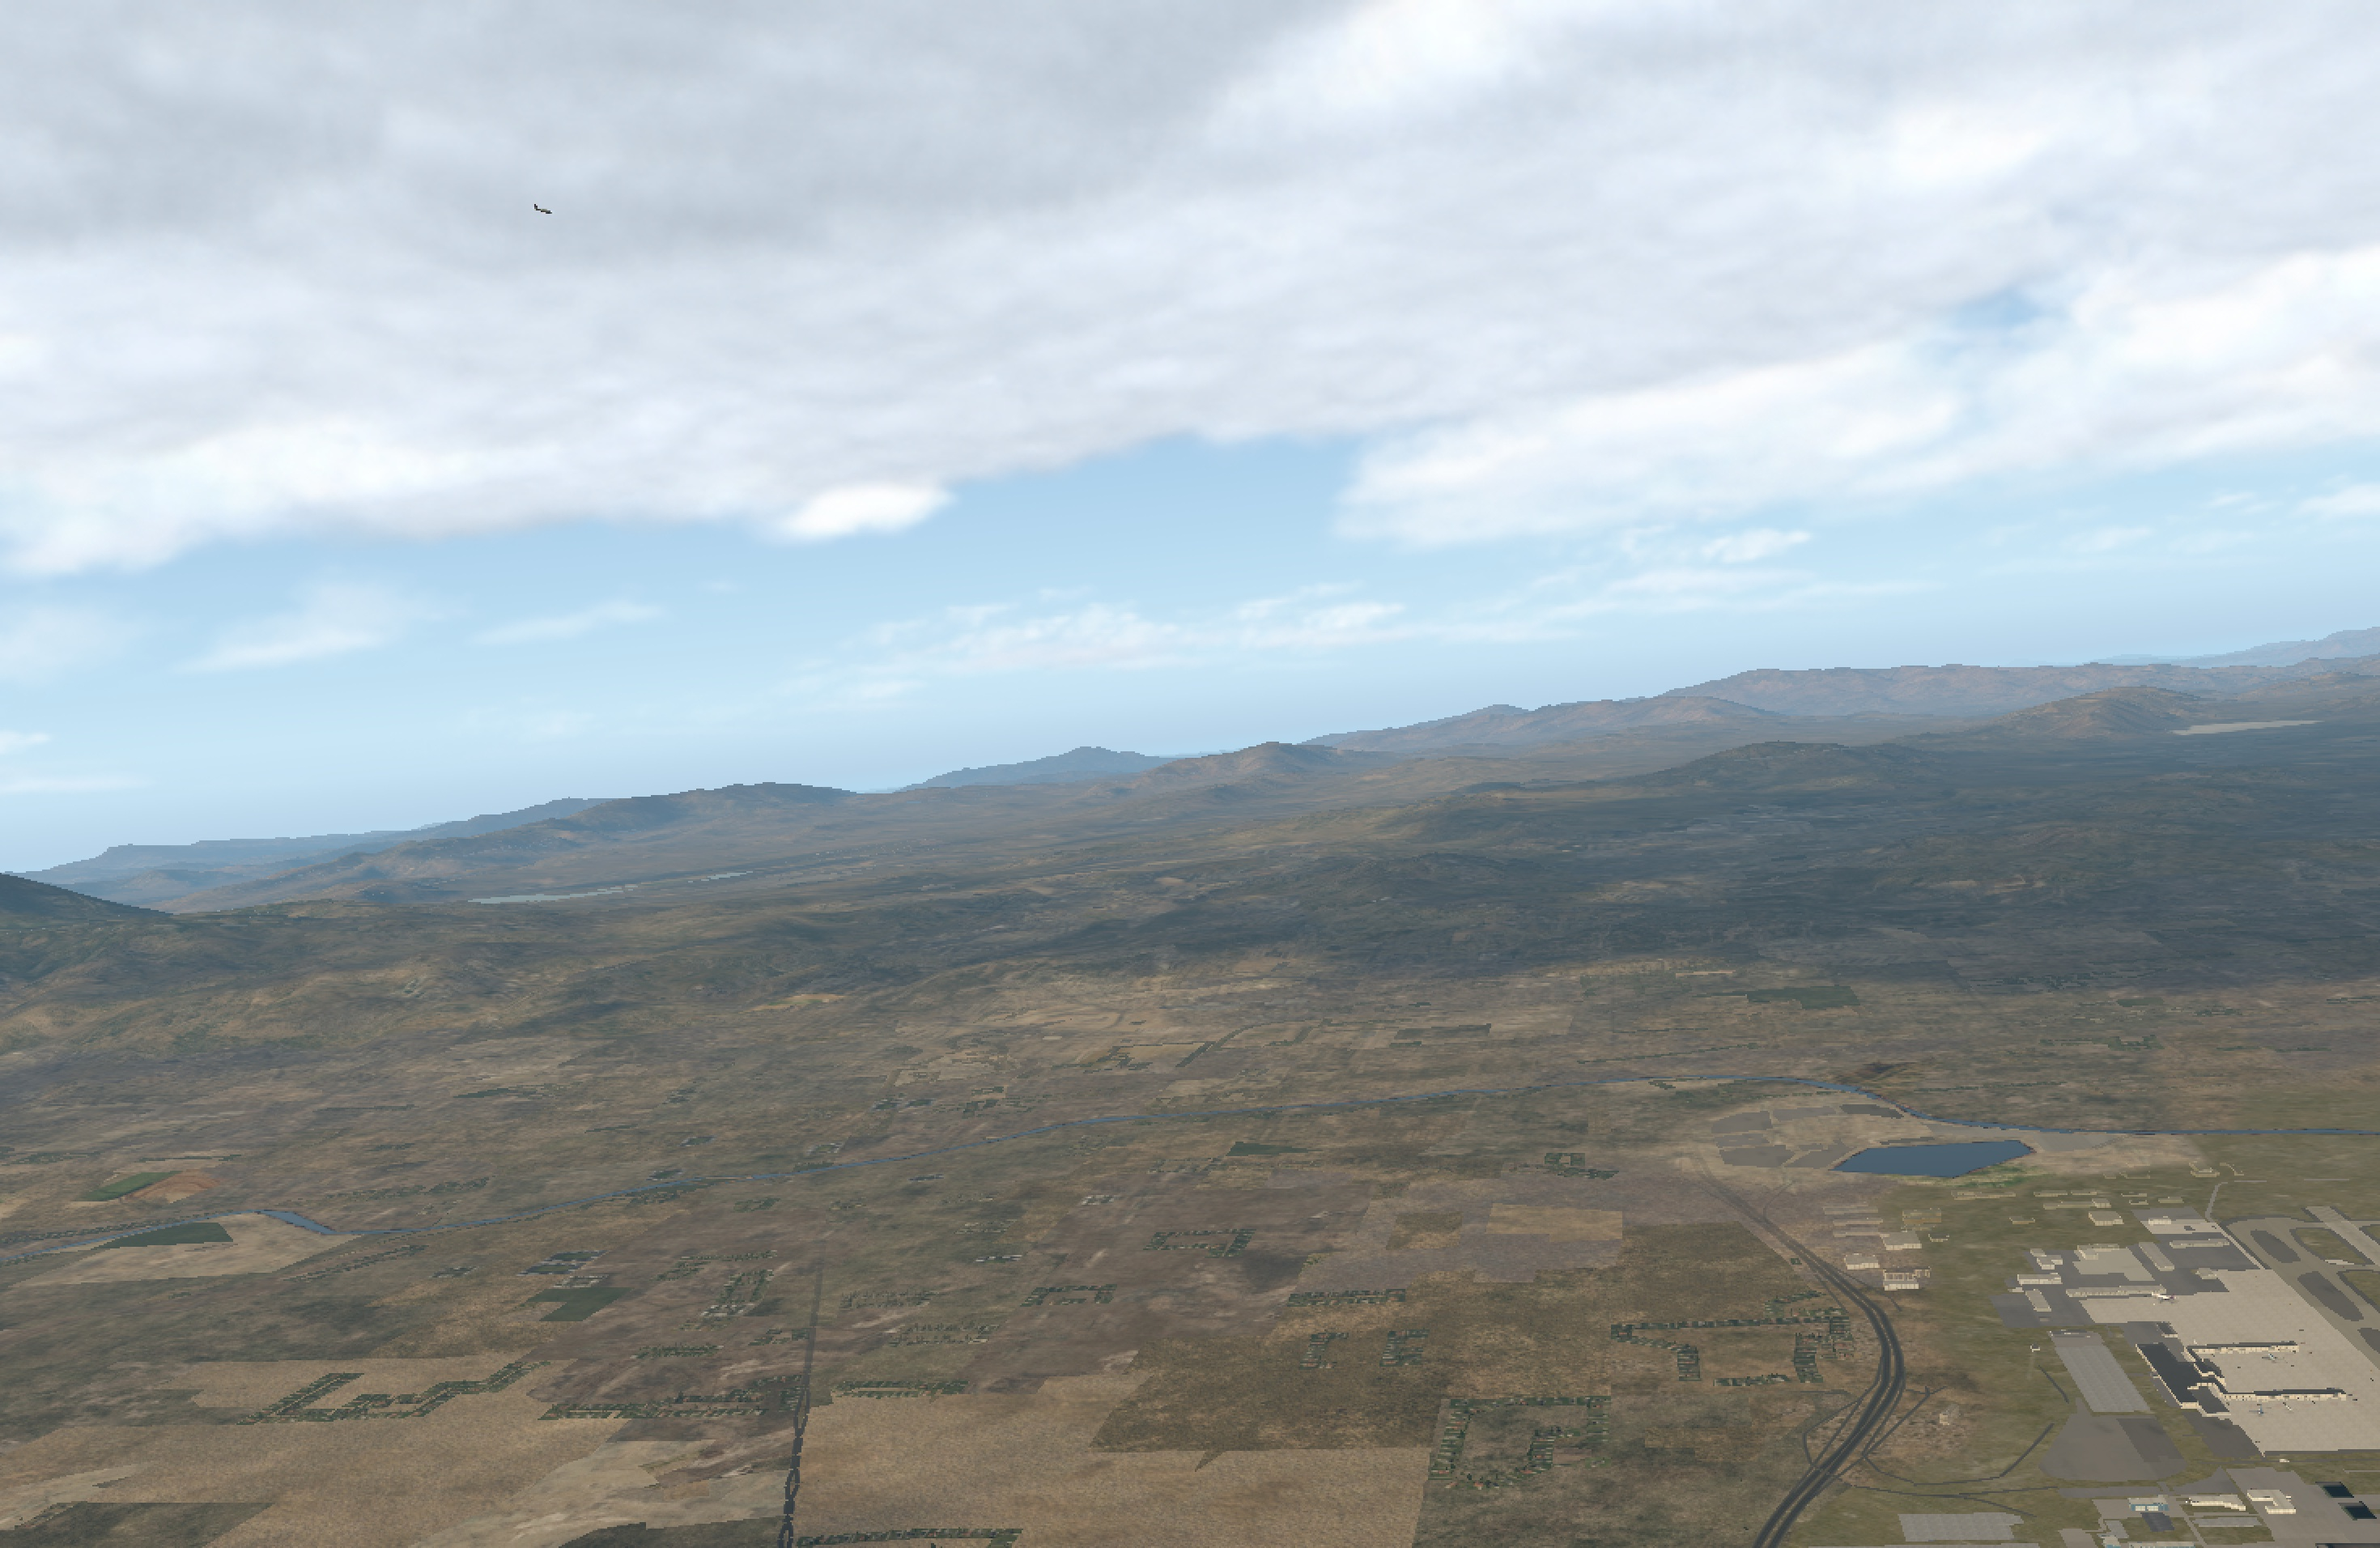aircraft: (533, 208, 559, 217)
